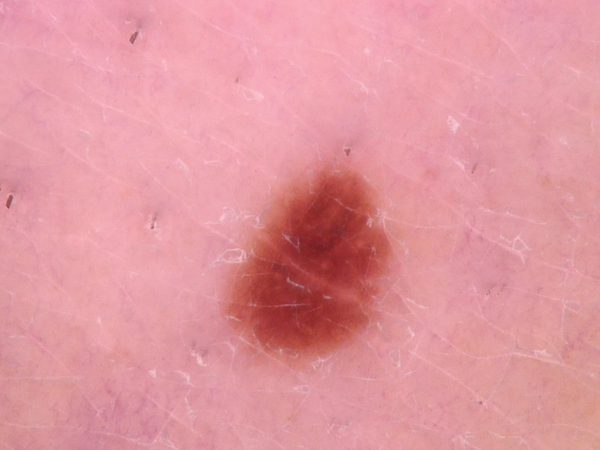Detected Lesion: (225, 154, 396, 362)
